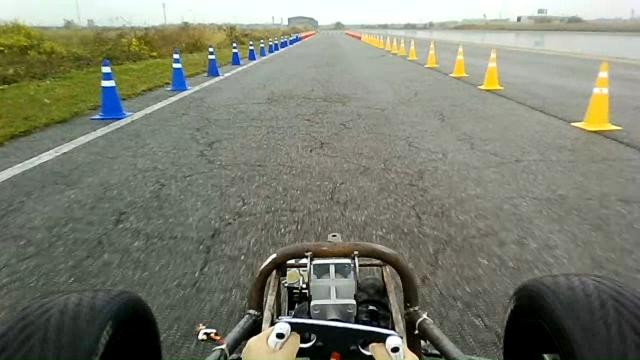blue cone: (90, 58, 133, 120), (164, 48, 190, 91), (203, 44, 222, 77), (230, 41, 242, 65), (247, 40, 256, 61), (258, 39, 267, 57)
yellow cone: (570, 61, 622, 132), (477, 48, 504, 90), (448, 44, 468, 78), (424, 40, 439, 68), (407, 38, 418, 61), (397, 37, 406, 56)
